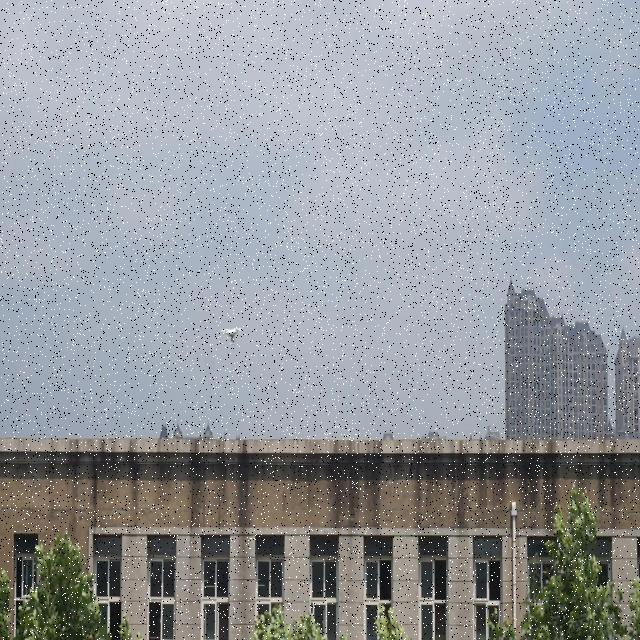UAV: (220, 327, 243, 346)
